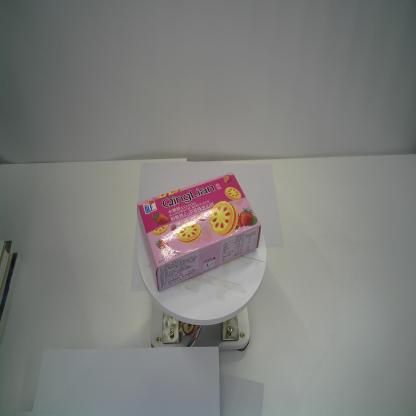Dessert: (137, 172, 261, 291)
